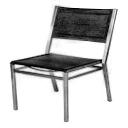chair_success: (3, 0, 124, 123)
